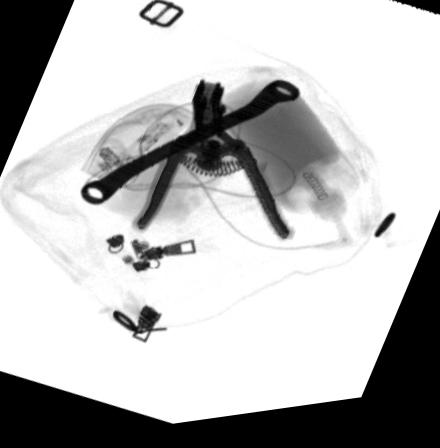Pliers: (134, 88, 291, 250)
Wrench: (80, 87, 299, 209)
